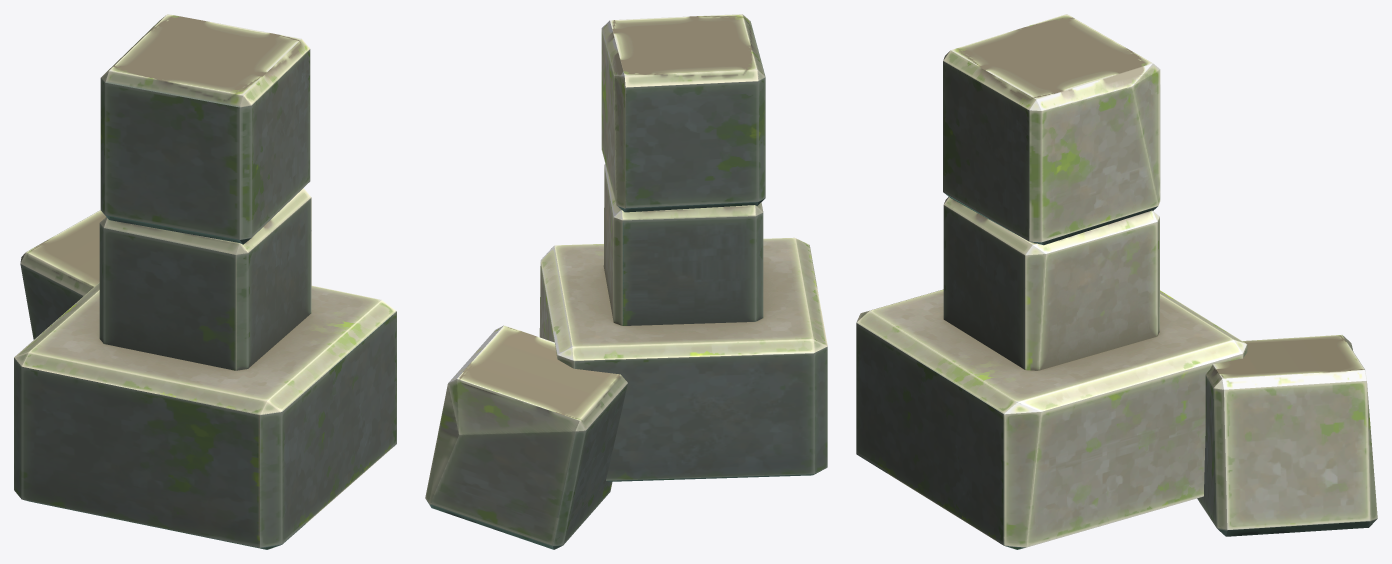
Rendered from stone_pillar6.fbx.
3 renders of one model, left to right at view 1: azimuth 30°, elevation 25°; view 2: azimuth 150°, elevation 25°; view 3: azimuth 270°, elevation 25°, orthographic. The views are drawn at different scales.
Parts seen in each view (by area): view 1: stone_pillar6; view 2: stone_pillar6; view 3: stone_pillar6.
Part boxes in pixels (left/top/right/bottom): stone_pillar6: left=14, top=14, right=396, bottom=549; stone_pillar6: left=425, top=14, right=827, bottom=549; stone_pillar6: left=856, top=14, right=1377, bottom=549.
Bounding box in the file's own units: 88.84 × 110 × 119.
1 material, 1 textured.
